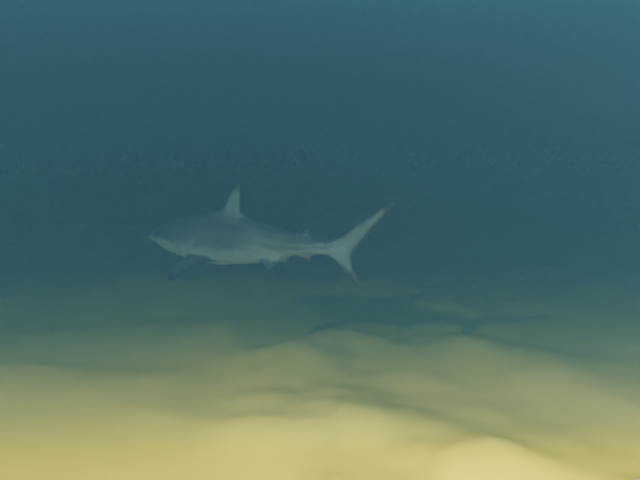Carribean Shark.001: (148, 183, 394, 283)
